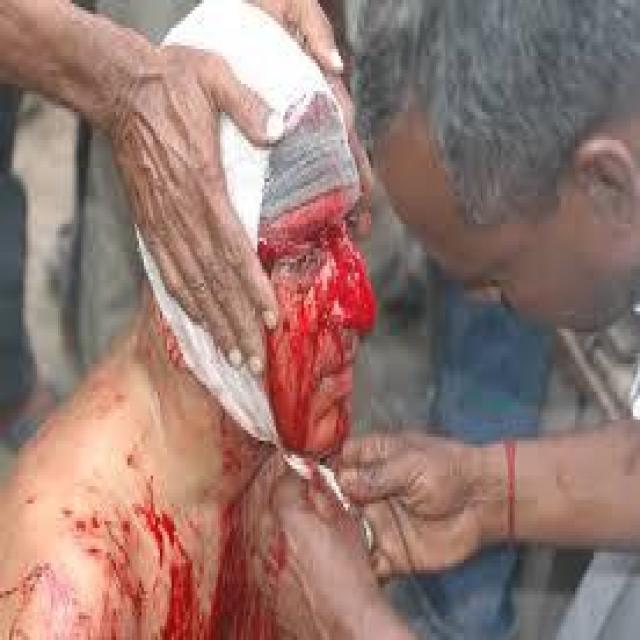flood: (251, 140, 384, 475), (89, 477, 296, 640)
